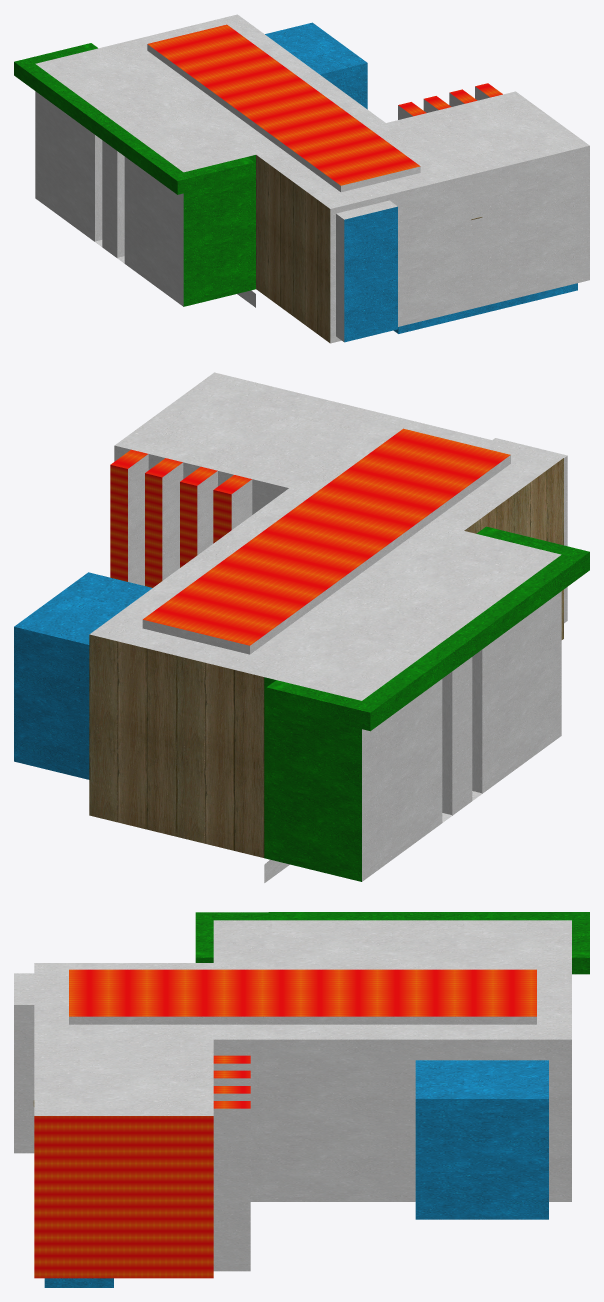
File: koupelna4.obj
3 renders of one model, top to bottom at view 1: azimuth 30°, elevation 25°; view 2: azimuth 150°, elevation 25°; view 3: azimuth 270°, elevation 25°, orthographic. The views are drawn at different scales.
Parts seen in each view (by area): view 1: steny_01_-_Default, steny_cervena, steny_zelena, steny_modra, steny_drevo; view 2: steny_01_-_Default, steny_drevo, steny_cervena, steny_zelena, steny_modra; view 3: steny_01_-_Default, steny_cervena, steny_modra, steny_zelena.
Part boxes in pixels (bbox=[...]): steny_01_-_Default: bbox=[35, 14, 589, 343]; steny_cervena: bbox=[147, 24, 502, 185]; steny_zelena: bbox=[14, 43, 255, 306]; steny_modra: bbox=[265, 22, 577, 342]; steny_drevo: bbox=[256, 155, 330, 342]; steny_01_-_Default: bbox=[89, 372, 567, 882]; steny_drevo: bbox=[89, 458, 563, 857]; steny_cervena: bbox=[110, 428, 510, 645]; steny_zelena: bbox=[264, 526, 589, 881]; steny_modra: bbox=[14, 572, 152, 779]; steny_01_-_Default: bbox=[14, 920, 571, 1271]; steny_cervena: bbox=[34, 969, 536, 1278]; steny_modra: bbox=[44, 1060, 548, 1287]; steny_zelena: bbox=[195, 912, 589, 974].
Size of the model in its own units: 2.7 by 1.19 by 3.22.
7 materials, 7 textured.
